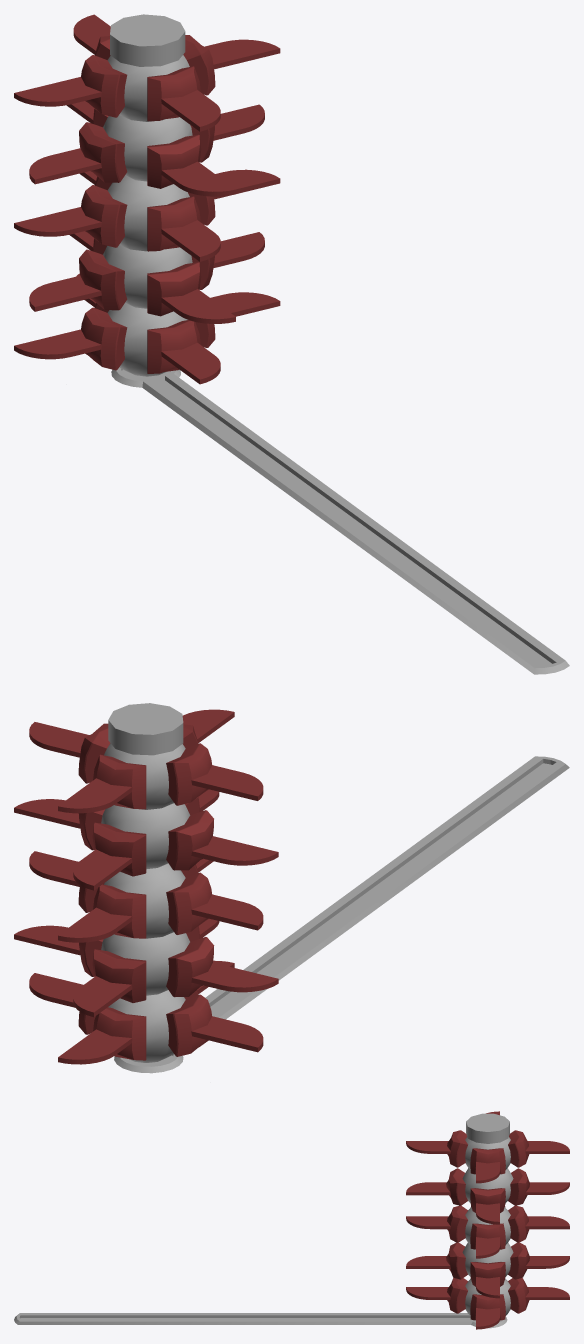
Rendered from M2  MoveingSpike.fbx.
3 renders of one model, top to bottom at view 1: azimuth 30°, elevation 25°; view 2: azimuth 150°, elevation 25°; view 3: azimuth 270°, elevation 25°, orthographic. The views are drawn at different scales.
Parts seen in each view (by area): view 1: pCylinder138, polySurface19, polySurface18, polySurface16, polySurface17, polySurface10; view 2: polySurface19, pCylinder138, polySurface18, polySurface16, polySurface17, polySurface10; view 3: pCylinder138, polySurface19, polySurface18, polySurface16, polySurface17, polySurface10.
Part boxes in pixels (box(x1,y1,x2,y2)): pCylinder138: box(111, 367, 569, 674); polySurface19: box(14, 14, 280, 131); polySurface18: box(29, 101, 264, 196); polySurface16: box(29, 231, 264, 323); polySurface17: box(14, 169, 280, 261); polySurface10: box(14, 273, 280, 384); polySurface19: box(29, 703, 263, 813); pCylinder138: box(114, 756, 569, 1073); polySurface18: box(14, 789, 278, 890); polySurface16: box(14, 918, 278, 1017); polySurface17: box(29, 851, 263, 942); polySurface10: box(29, 960, 263, 1064); pCylinder138: box(14, 1313, 507, 1328); polySurface19: box(406, 1111, 569, 1183); polySurface18: box(406, 1168, 569, 1224); polySurface16: box(406, 1242, 569, 1298); polySurface17: box(406, 1205, 569, 1258); polySurface10: box(406, 1278, 569, 1329).
Size of the model in its own units: 184 by 245 by 624.
